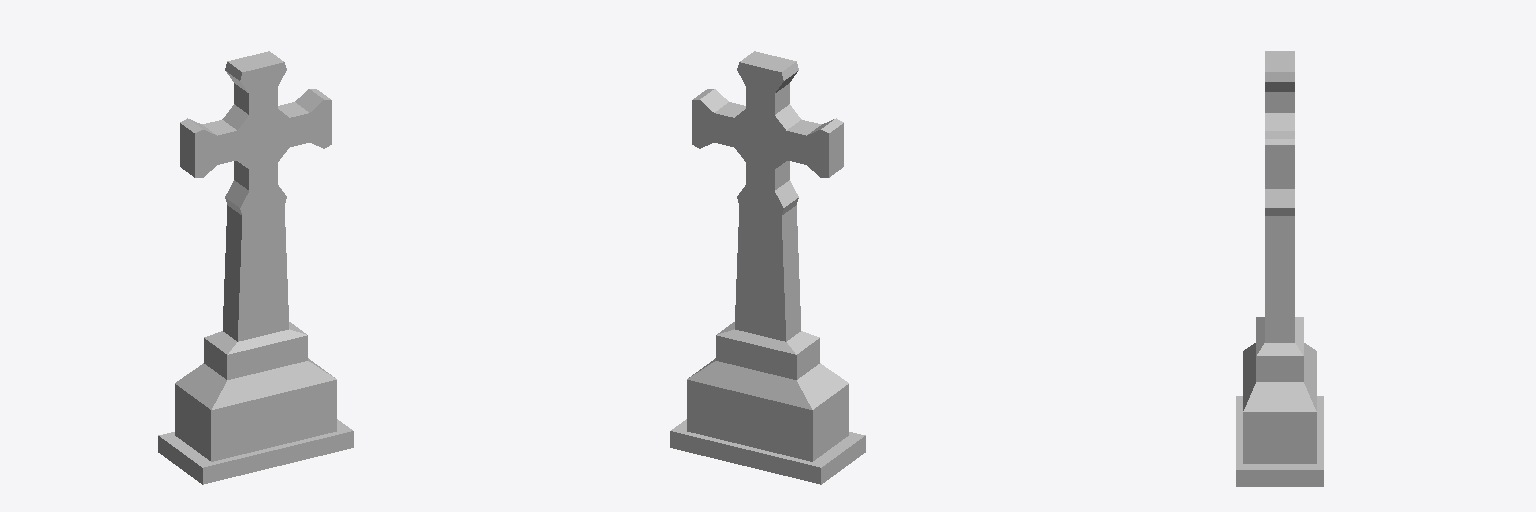
File: cross.obj
3 views of the same model, side by side, from view 1: azimuth 30°, elevation 25°; view 2: azimuth 150°, elevation 25°; view 3: azimuth 270°, elevation 25° (orthographic).
Parts seen in each view (by area): view 1: Cross4_Circle.003; view 2: Cross4_Circle.003; view 3: Cross4_Circle.003.
Boxes of the visible parts, <box> form: Cross4_Circle.003: <box>158,51,353,484</box>; Cross4_Circle.003: <box>670,51,865,484</box>; Cross4_Circle.003: <box>1236,51,1323,486</box>.
Size of the model in its own units: 2.42 by 5.96 by 1.23.